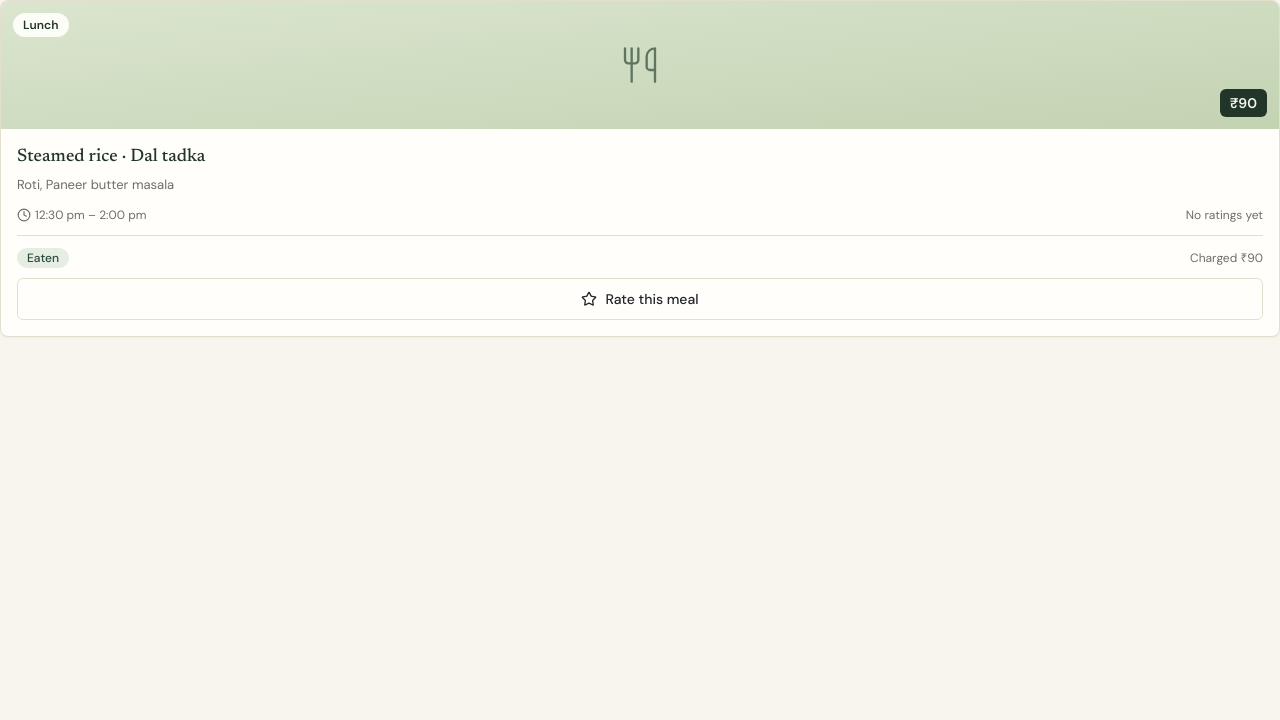
MealCard › requires both ratings before a review can be submitted
Step 1. Click the button "Rate this meal" → (640, 299), box [17, 278, 1263, 320]
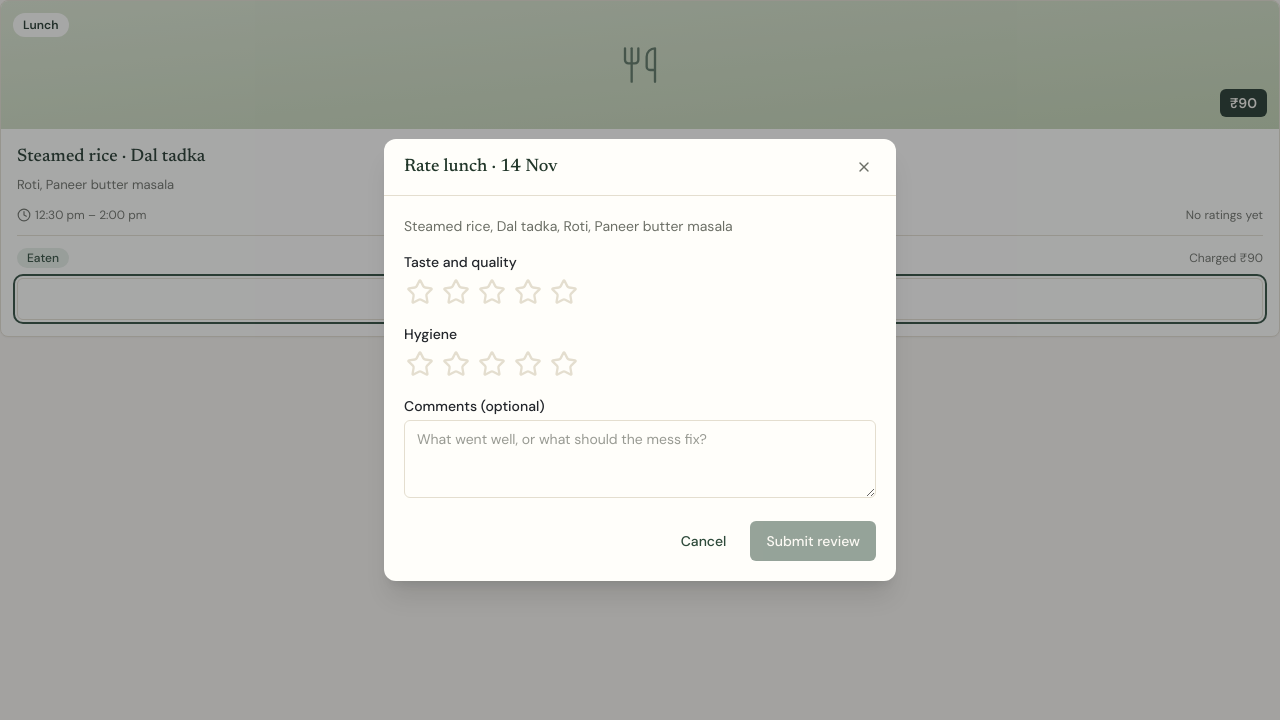
Now the button "Submit review" is disabled, box [750, 521, 876, 561]
Step 2. Click the radio button named "4 stars" below "Taste and quality" → (528, 292), box [512, 276, 544, 308]
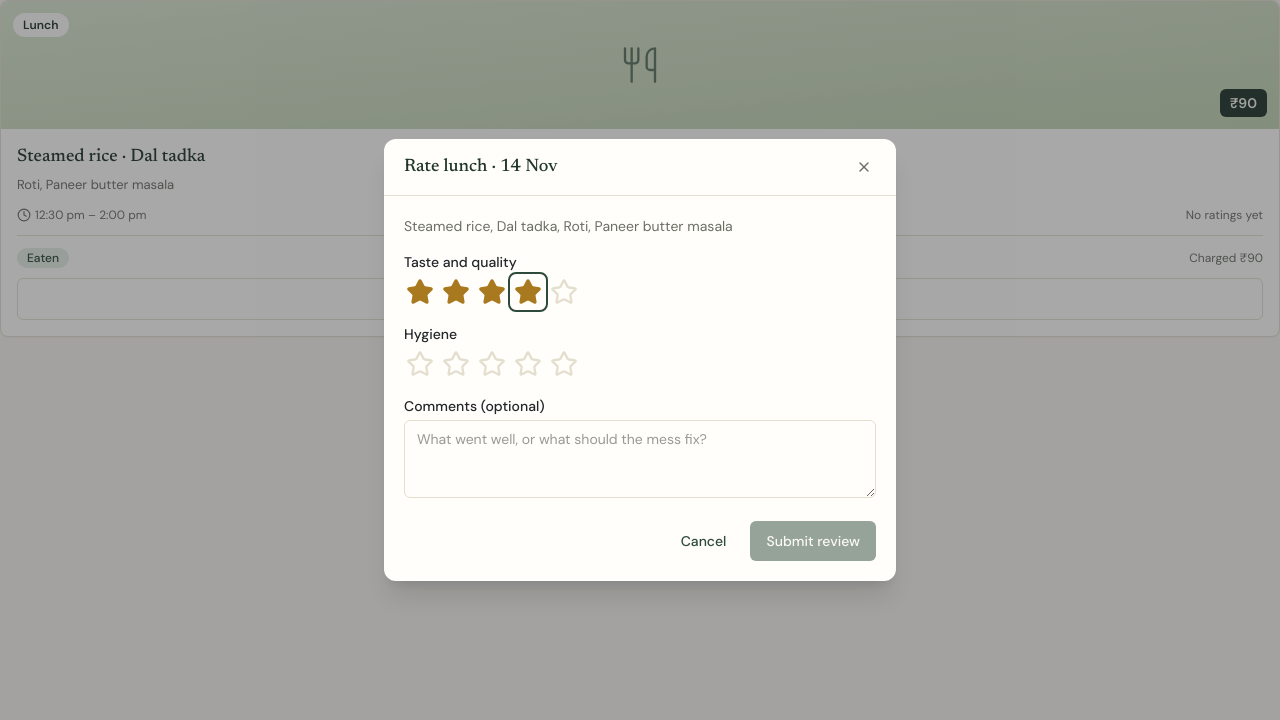
Now the button "Submit review" is disabled, box [750, 521, 876, 561]
Step 3. Click the radio button named "3 stars" below "Hygiene" → (492, 364), box [476, 348, 508, 380]
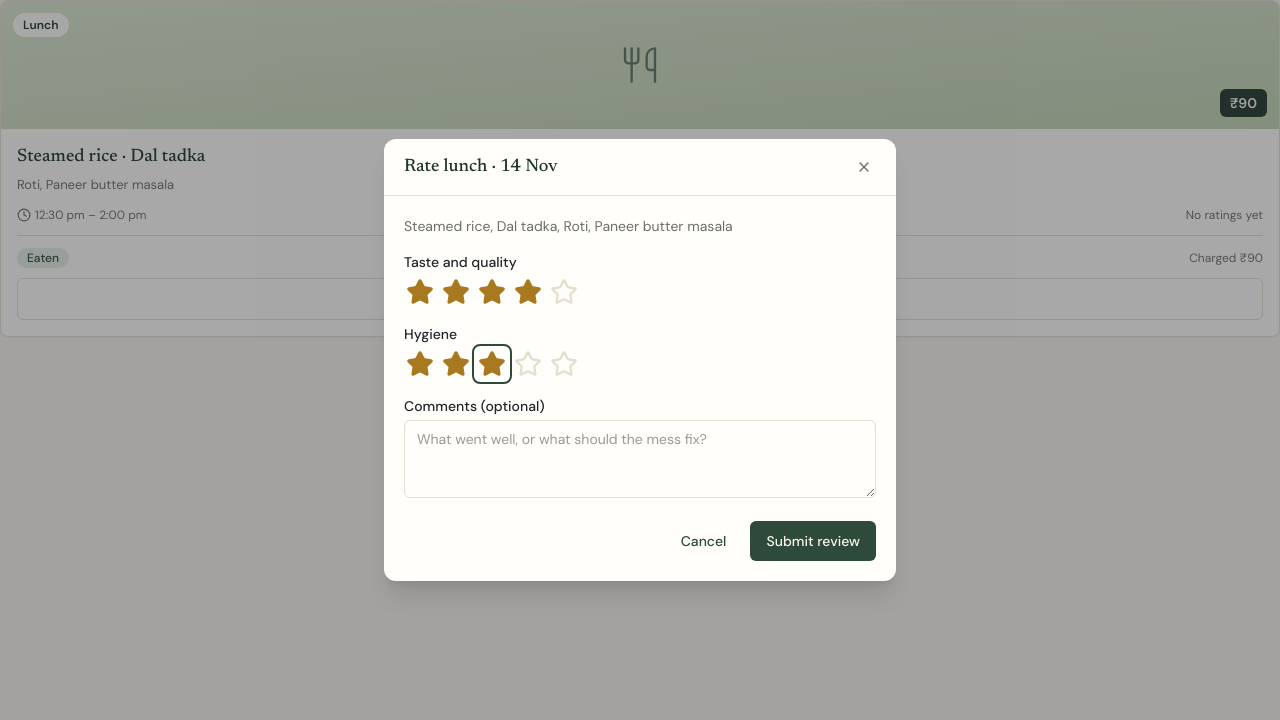
Now the button "Submit review" is enabled, box [750, 521, 876, 561]
